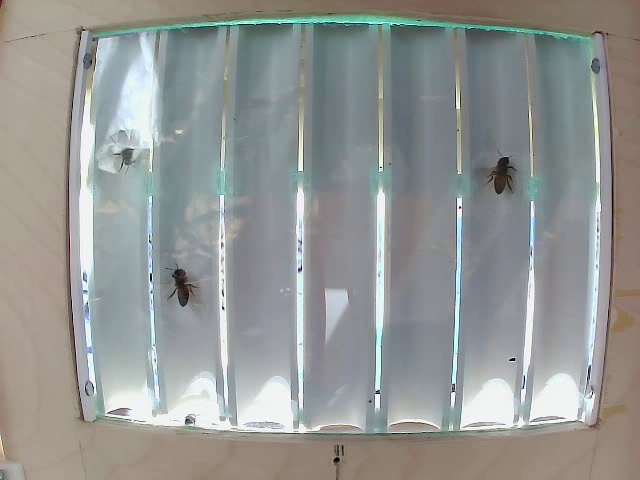bee: (479, 147, 525, 211), (165, 265, 199, 317), (107, 123, 140, 168)
